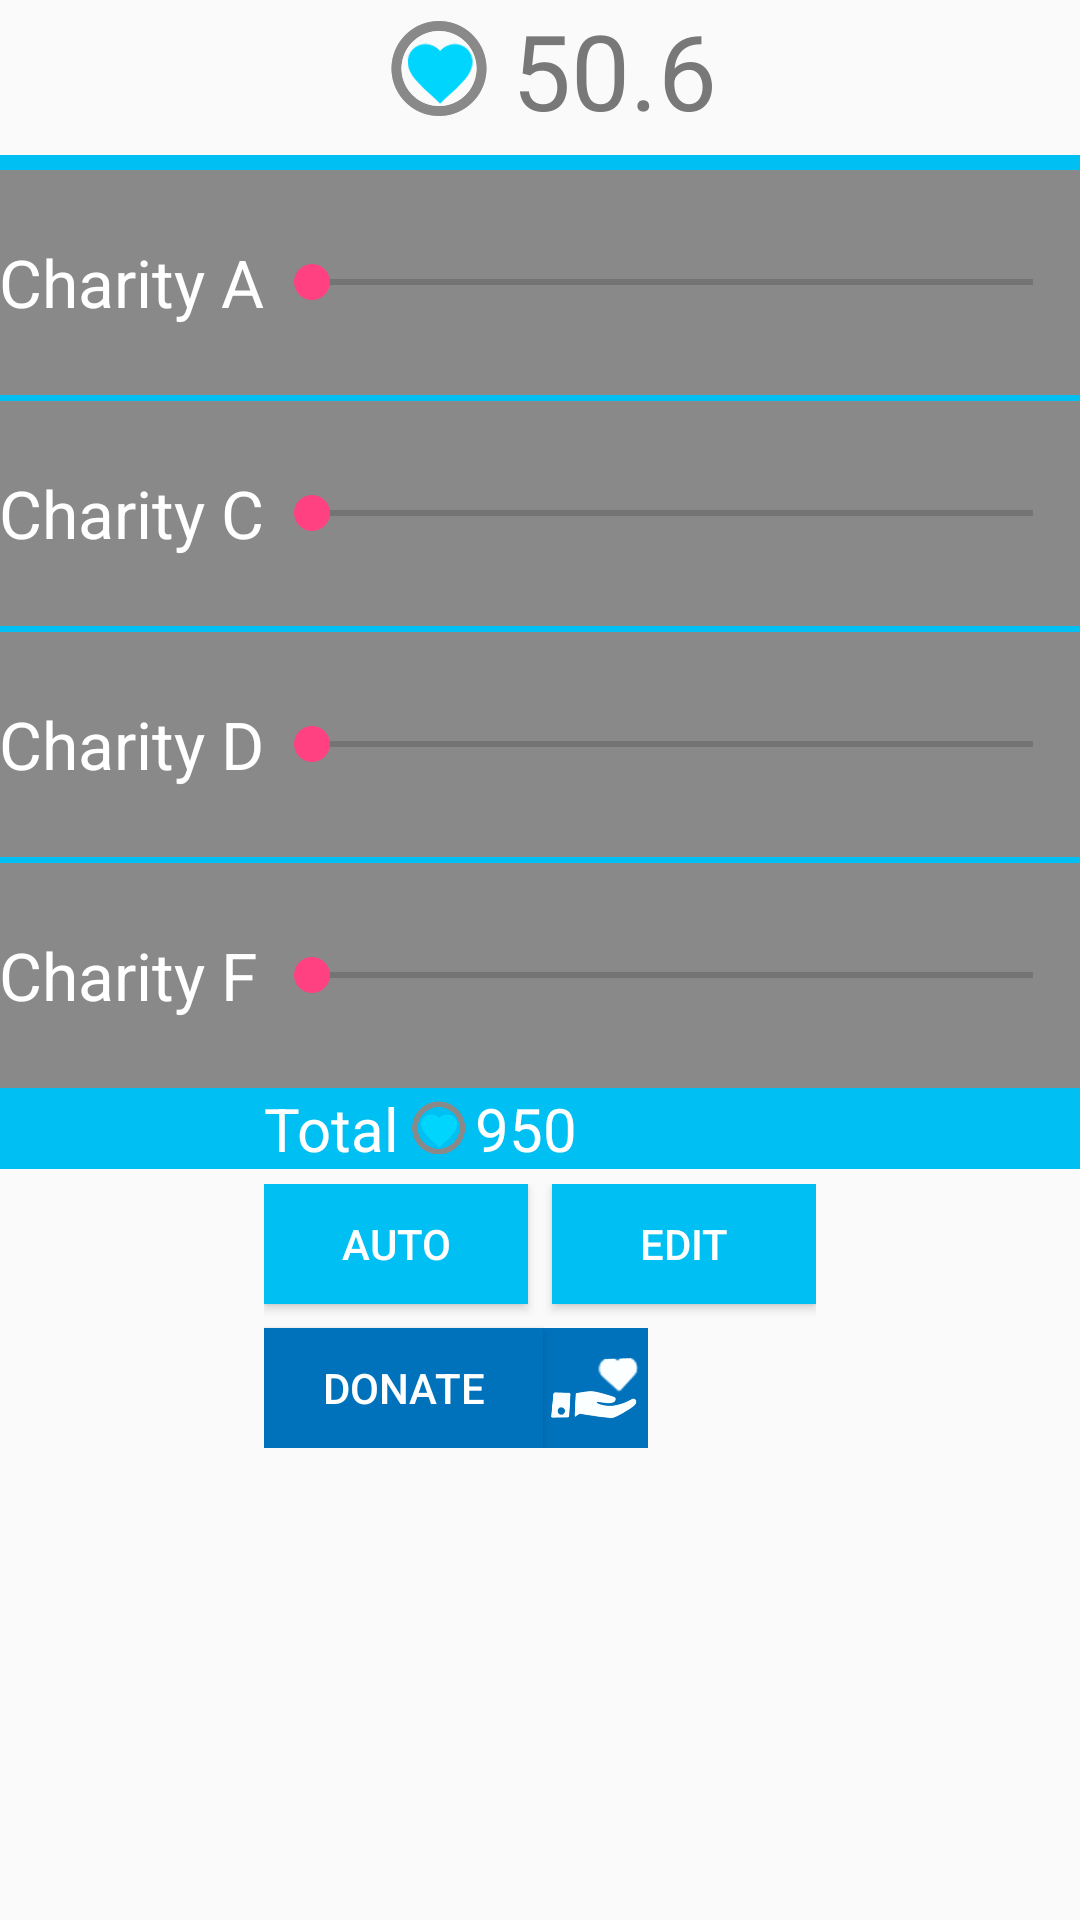

Where to tap for icons on this 1080 x 1920 app screen, as point (x, y):
heart coins: point (439, 68), point (438, 1127)
mydonation: point (594, 1388)
